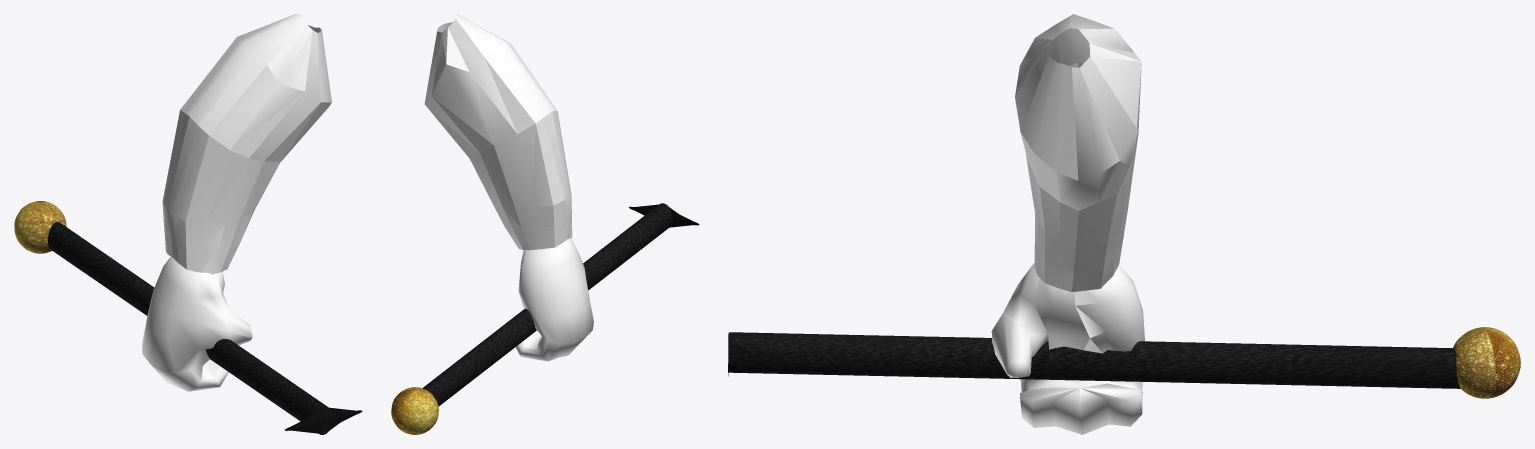
Rendered from brazoder.obj.
3 views of the same model, side by side, from view 1: azimuth 30°, elevation 25°; view 2: azimuth 150°, elevation 25°; view 3: azimuth 270°, elevation 25° (orthographic). The views are drawn at different scales.
Size of the model in its own units: 1.38 by 2.58 by 3.97.
Materials: 3 (3 with a texture image).
